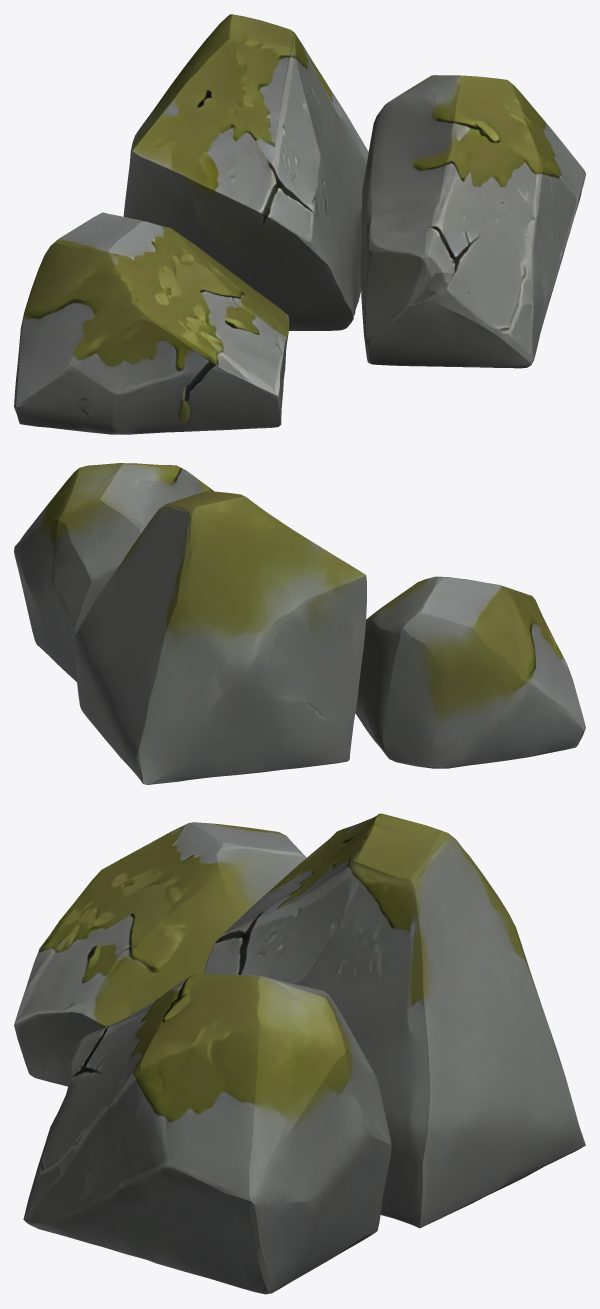
Rendered from base_basic_pbr.glb.
3 views of the same model, one above another, from view 1: azimuth 30°, elevation 25°; view 2: azimuth 150°, elevation 25°; view 3: azimuth 270°, elevation 25° (orthographic). The views are drawn at different scales.
Visible parts, largest first — view 1: Mesh; view 2: Mesh; view 3: Mesh.
Part boxes in pixels (<box>): Mesh: <box>14,14,585,434</box>; Mesh: <box>14,463,585,784</box>; Mesh: <box>14,813,585,1294</box>.
Size of the model in its own units: 1.89 by 0.7974 by 1.29.
1 material, 1 textured.
